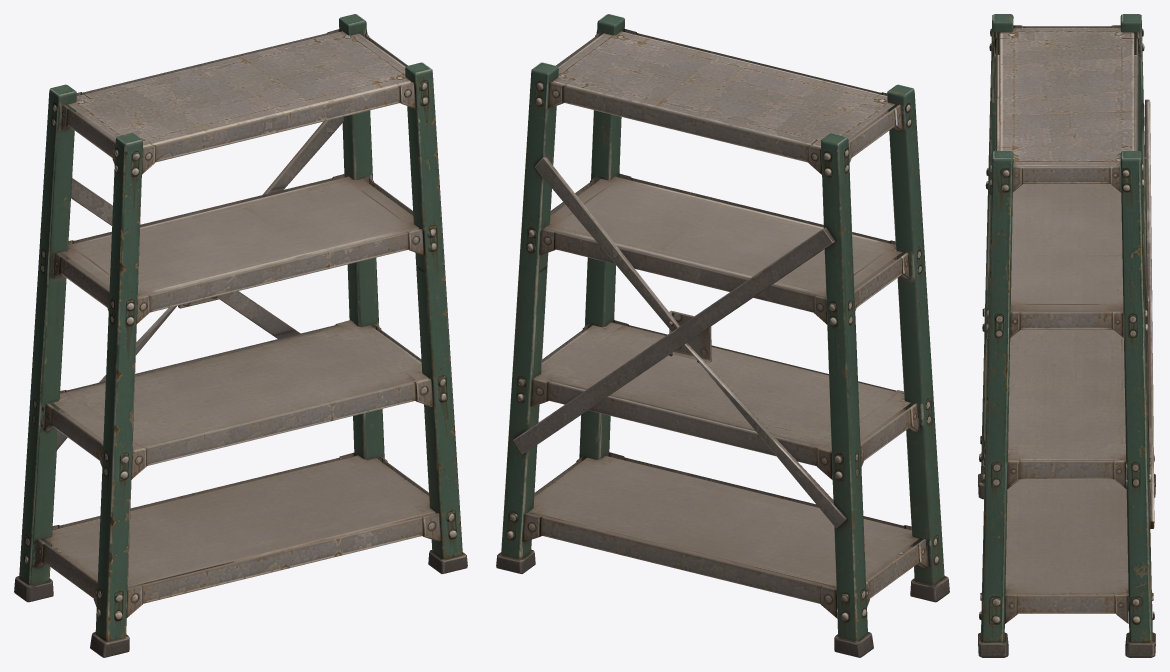
Rendered from P24_metal_storage_shelf_Runtime_1k.glb.
3 renders of one model, left to right at view 1: azimuth 30°, elevation 25°; view 2: azimuth 150°, elevation 25°; view 3: azimuth 270°, elevation 25°, orthographic. The views are drawn at different scales.
Parts seen in each view (by area): view 1: tripo_node_96e1f6de; view 2: tripo_node_96e1f6de; view 3: tripo_node_96e1f6de.
Part boxes in pixels (x1,y1,x2,y2): tripo_node_96e1f6de: (14,14,467,657); tripo_node_96e1f6de: (496,14,949,657); tripo_node_96e1f6de: (978,14,1155,657).
Size of the model in its own units: 1.38 by 1.81 by 0.5986.
Materials: 1 (1 with a texture image).
